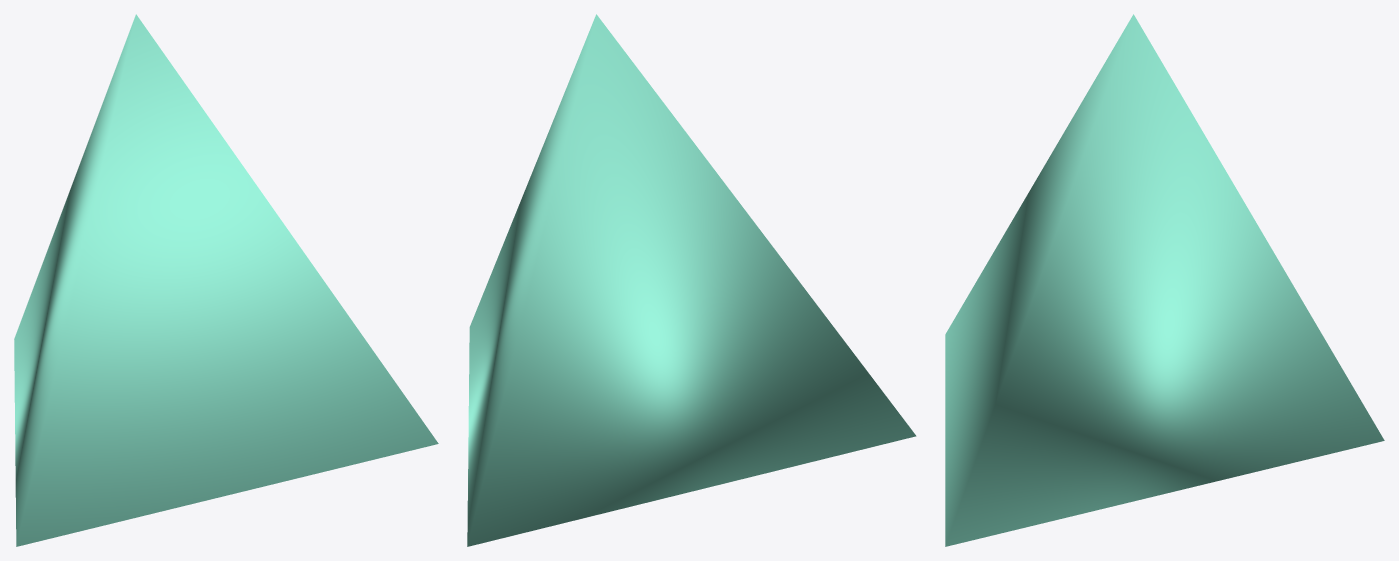
Rendered from spinner.glb.
The picture shows the model from 3 angles, left to right: view 1: azimuth 30°, elevation 25°; view 2: azimuth 150°, elevation 25°; view 3: azimuth 270°, elevation 25°; orthographic projection. The views are drawn at different scales.
Visible parts, largest first — view 1: AnimatedSpinner; view 2: AnimatedSpinner; view 3: AnimatedSpinner.
Part boxes in pixels (x1,y1,x2,y2): AnimatedSpinner: [14, 14, 438, 546]; AnimatedSpinner: [467, 14, 916, 546]; AnimatedSpinner: [945, 14, 1384, 546].
Bounding box in the file's own units: 1.6 × 1.5 × 1.4.
